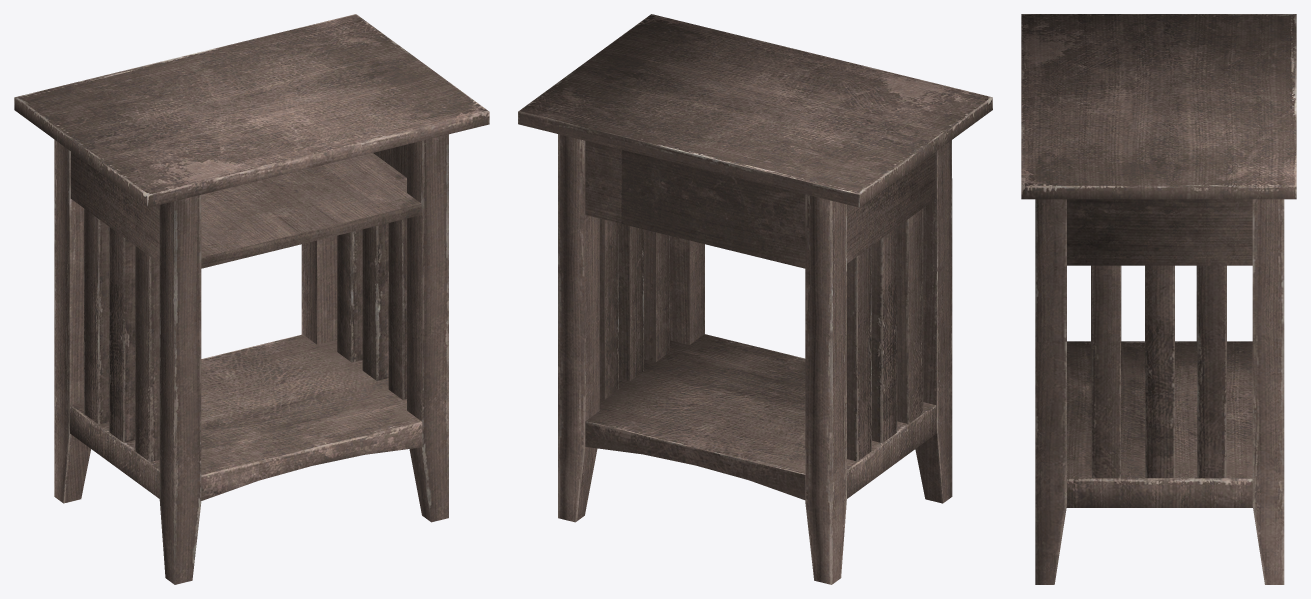
The model's file is endTable01.FBX.
The picture shows the model from 3 angles, left to right: view 1: azimuth 30°, elevation 25°; view 2: azimuth 150°, elevation 25°; view 3: azimuth 270°, elevation 25°; orthographic projection. The views are drawn at different scales.
Parts seen in each view (by area): view 1: SM_EndTable01; view 2: SM_EndTable01; view 3: SM_EndTable01.
Boxes of the visible parts, x1,y1,x2,y2 form: SM_EndTable01: (14, 14, 489, 584); SM_EndTable01: (518, 14, 992, 584); SM_EndTable01: (1021, 14, 1296, 584).
Bounding box in the file's own units: 80.85 × 91.14 × 54.68.
1 material, 1 textured.
